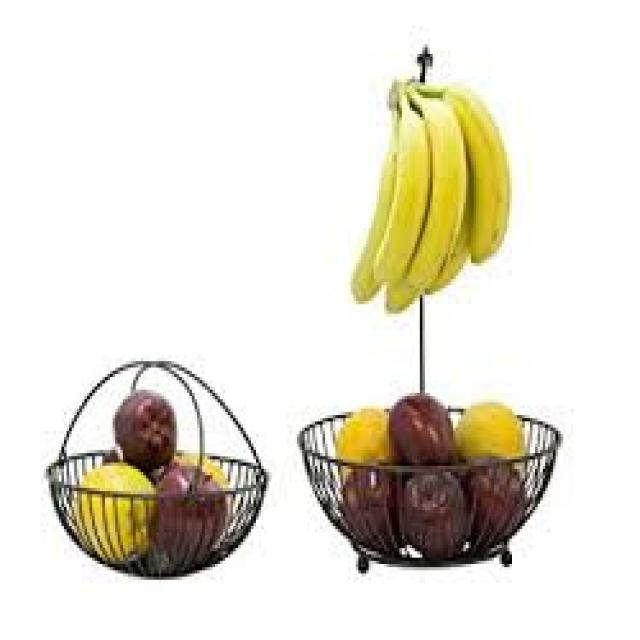organic waste: (351, 76, 504, 311), (448, 86, 504, 263), (353, 79, 397, 298), (420, 89, 466, 279), (72, 462, 151, 554), (392, 95, 428, 276), (399, 466, 466, 551), (154, 466, 218, 551), (110, 386, 177, 466), (340, 466, 402, 551), (384, 386, 451, 459), (460, 462, 520, 538), (453, 400, 525, 460), (336, 406, 394, 462), (387, 215, 422, 298), (425, 215, 461, 279), (172, 450, 222, 485)
